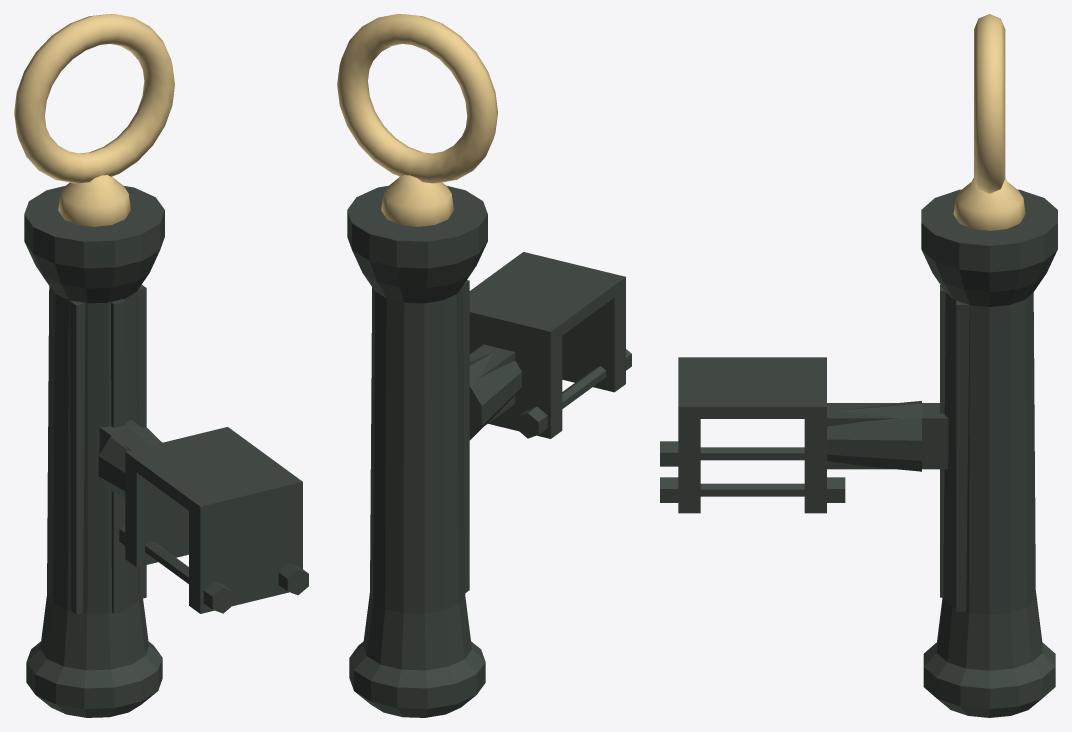
File: pull_stake.glb
The picture shows the model from 3 angles, left to right: view 1: azimuth 30°, elevation 25°; view 2: azimuth 150°, elevation 25°; view 3: azimuth 270°, elevation 25°; orthographic projection.
Visible parts, largest first — view 1: bracket, stake_brass; view 2: bracket, stake_brass; view 3: bracket, stake_brass.
Boxes of the visible parts, x1=… form: bracket: x1=24, y1=185, x2=308, y2=717; stake_brass: x1=14, y1=14, x2=174, y2=226; bracket: x1=347, y1=185, x2=631, y2=717; stake_brass: x1=337, y1=14, x2=497, y2=226; bracket: x1=660, y1=189, x2=1057, y2=717; stake_brass: x1=953, y1=14, x2=1025, y2=230.
Size of the model in its own units: 0.08 by 0.33 by 0.1762.
